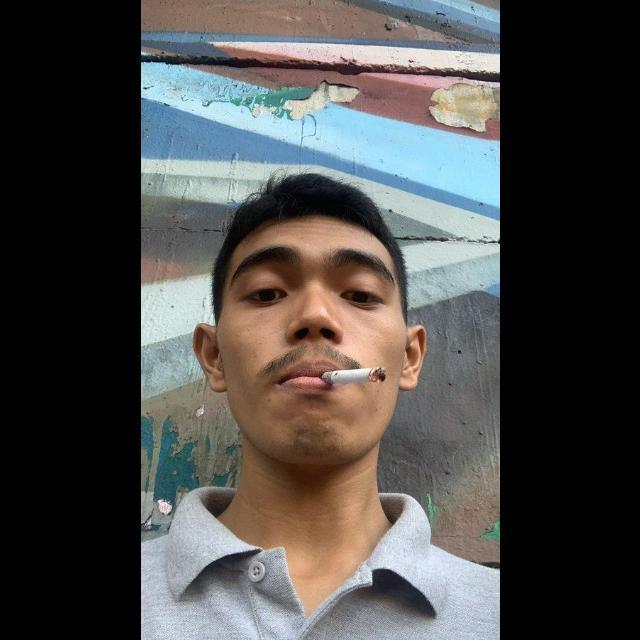rokok: (320, 364, 388, 394)
